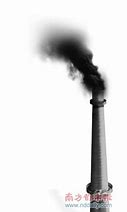smoke: (40, 32, 109, 94)
